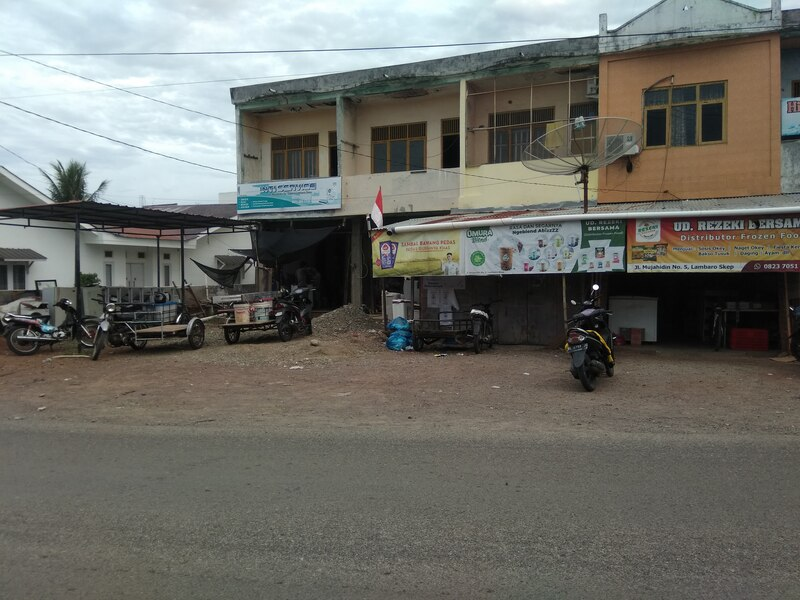becak barang: (91, 292, 210, 364), (221, 279, 320, 345), (405, 297, 503, 358)
motorcycle: (560, 282, 621, 395), (3, 297, 103, 361)
